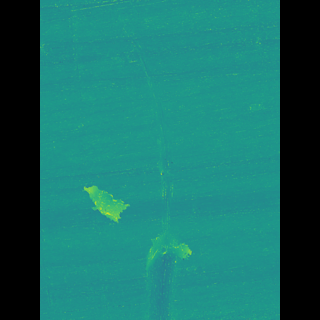Loch: (146, 135, 184, 320), (100, 179, 139, 227)
